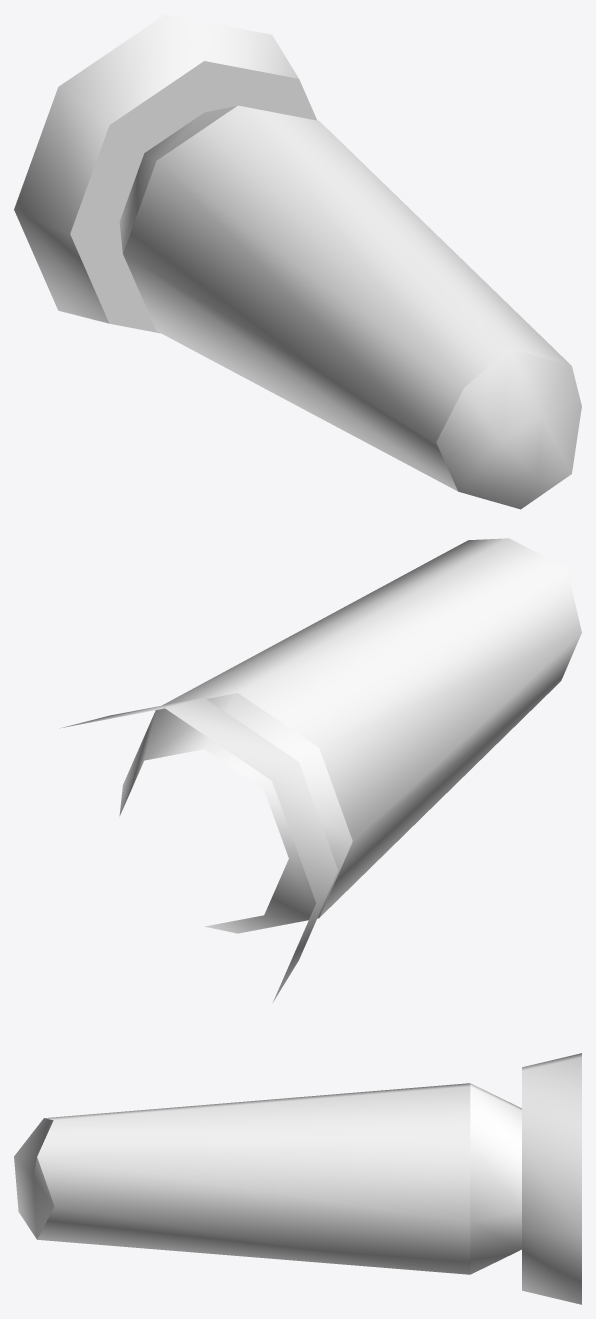
Rendered from doric pillar broken tall.glb.
3 renders of one model, top to bottom at view 1: azimuth 30°, elevation 25°; view 2: azimuth 150°, elevation 25°; view 3: azimuth 270°, elevation 25°, orthographic. The views are drawn at different scales.
Parts seen in each view (by area): view 1: doric_broken_tall.model-Mesh[0]; view 2: doric_broken_tall.model-Mesh[0]; view 3: doric_broken_tall.model-Mesh[0].
Boxes of the visible parts, bbox=[...] form: doric_broken_tall.model-Mesh[0]: bbox=[14, 14, 581, 509]; doric_broken_tall.model-Mesh[0]: bbox=[60, 538, 581, 1002]; doric_broken_tall.model-Mesh[0]: bbox=[14, 1053, 581, 1304].
Bounding box in the file's own units: 1.65 × 1.65 × 3.49.
Materials: 1 (1 with a texture image).
